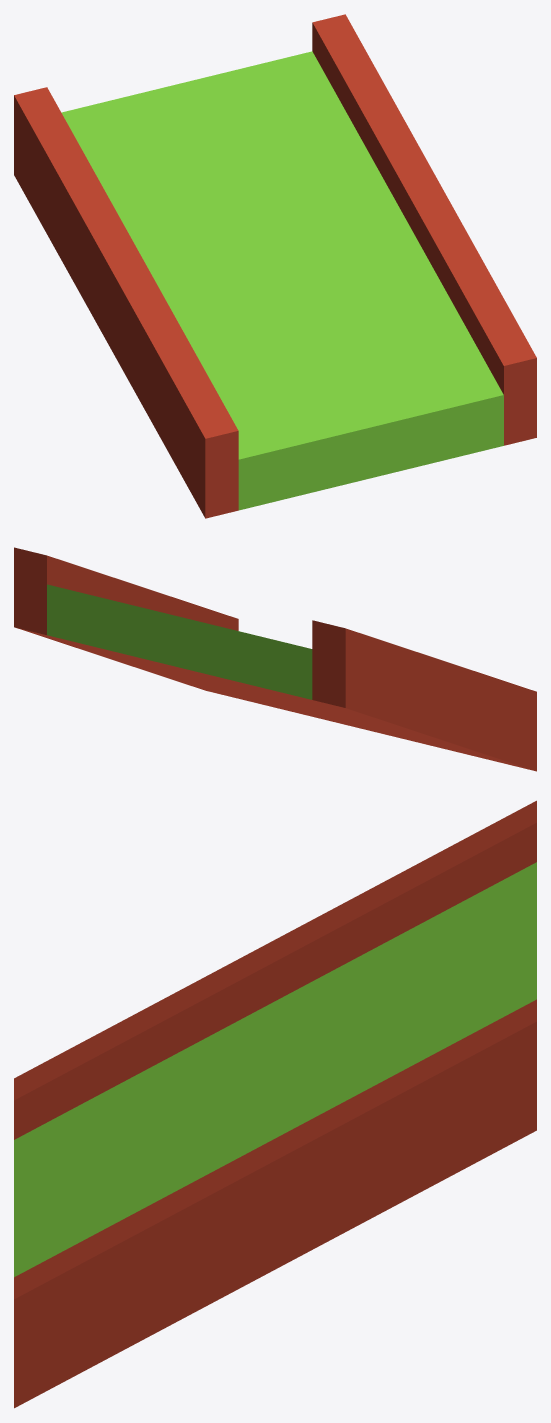
Rendered from Ramp_07333M.FBX.
The picture shows the model from 3 angles, top to bottom: view 1: azimuth 30°, elevation 25°; view 2: azimuth 150°, elevation 25°; view 3: azimuth 270°, elevation 25°; orthographic projection. The views are drawn at different scales.
Visible parts, largest first — view 1: Ramp_4_01, Walls; view 2: Walls, Ramp_4_01; view 3: Walls, Ramp_4_01.
Part boxes in pixels (x1,y1,x2,y2): Ramp_4_01: (61,51,503,510); Walls: (14,14,536,518); Walls: (14,547,536,771); Ramp_4_01: (17,584,534,770); Walls: (14,800,536,1408); Ramp_4_01: (14,862,536,1277).
Bounding box in the file's own units: 0.9999 × 0.9999 × 0.8166.
